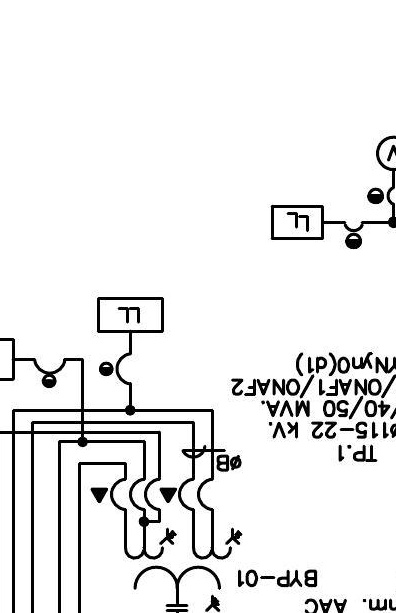115_cvt_3p: (123, 527, 243, 612)
LL: (97, 297, 164, 333), (271, 204, 324, 240)
